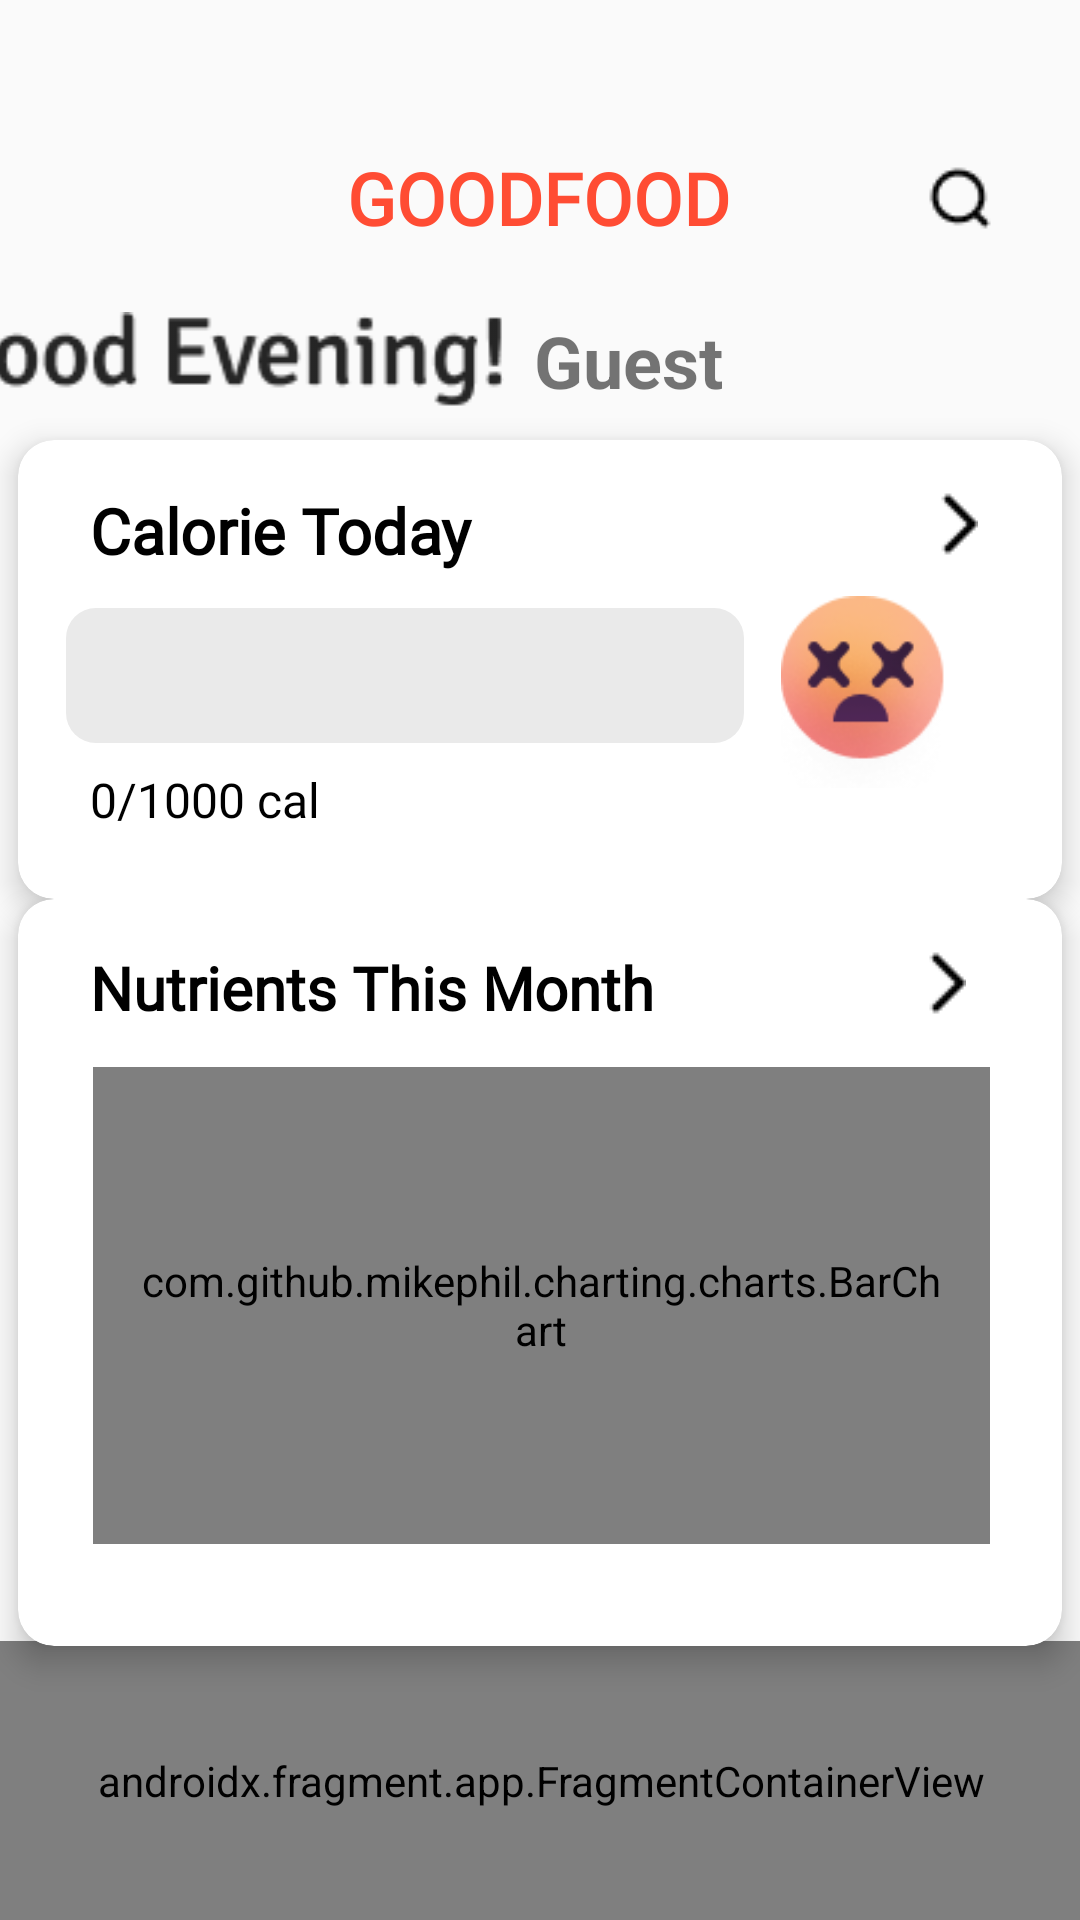

Icons on this 1080 x 1920 Android screen, each with the point to tap as point (x, y):
arrow: point (960, 524), point (948, 983)
dizzyface: point (862, 677)
Search: point (960, 198)
